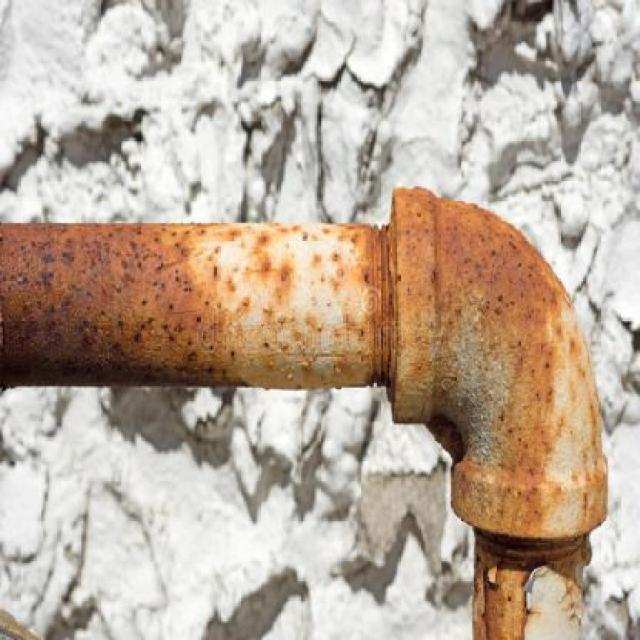corrosion: (0, 181, 609, 640)
